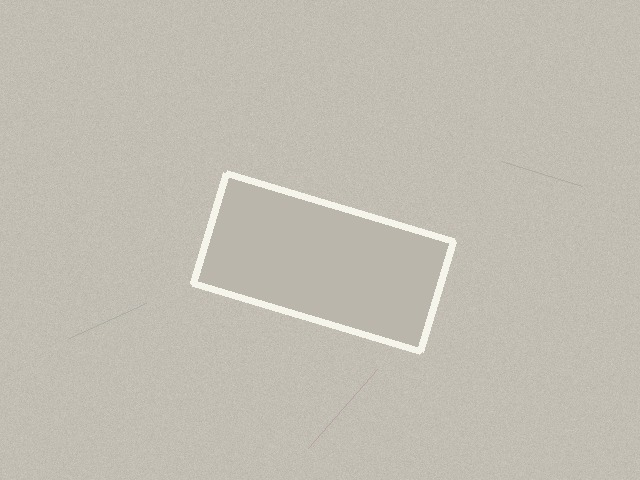parking_area: (193, 173, 453, 351)
